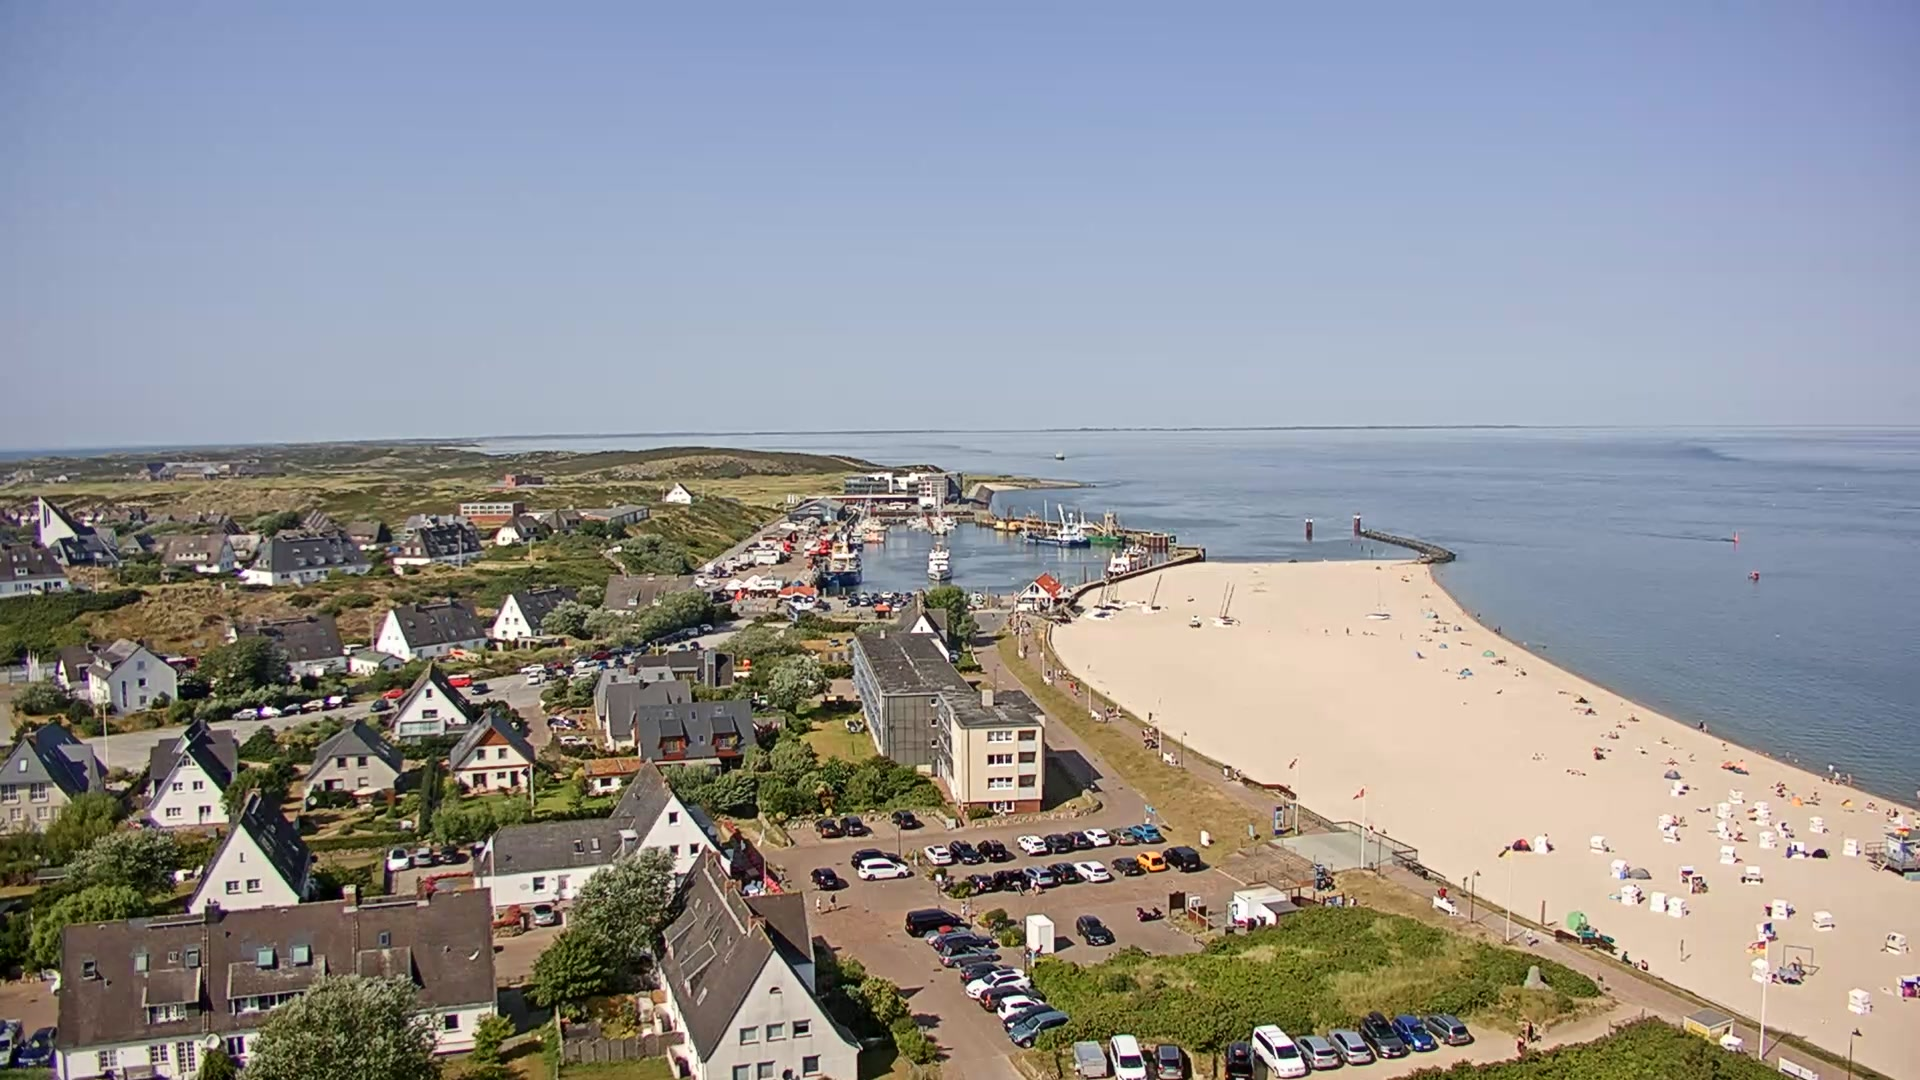human: (1312, 863, 1326, 880), (827, 891, 838, 913), (1619, 949, 1632, 965), (1678, 938, 1686, 960), (1543, 831, 1553, 849), (1524, 926, 1534, 945), (1734, 819, 1743, 839), (815, 895, 823, 916), (1578, 911, 1587, 931), (1527, 1020, 1535, 1041), (1736, 759, 1747, 772), (1521, 1022, 1527, 1043), (1366, 825, 1374, 843), (1517, 1032, 1525, 1050), (1104, 702, 1111, 718), (1827, 761, 1834, 776), (1697, 720, 1706, 732), (1834, 768, 1841, 783), (1074, 680, 1080, 695), (1116, 703, 1122, 718), (1141, 726, 1148, 738), (1439, 887, 1447, 900), (1349, 896, 1357, 907), (1719, 741, 1728, 753), (1109, 705, 1116, 718), (1147, 725, 1153, 739), (1894, 806, 1900, 816), (1886, 807, 1892, 815)
land: (1250, 1022, 1305, 1077), (1007, 1011, 1073, 1049), (964, 967, 1032, 1001), (1357, 1010, 1405, 1059), (1108, 1033, 1148, 1079), (904, 907, 965, 937), (978, 984, 1045, 1012), (17, 1024, 58, 1068), (1326, 1026, 1371, 1065), (1391, 1012, 1435, 1051), (1292, 1032, 1339, 1069), (1419, 1012, 1470, 1045), (1002, 1004, 1056, 1031), (938, 941, 993, 967), (857, 857, 910, 882), (1, 1017, 26, 1070), (996, 995, 1046, 1022), (1076, 914, 1115, 947), (1222, 1041, 1257, 1078), (920, 923, 974, 945), (932, 931, 993, 951), (1153, 1042, 1184, 1079), (1160, 845, 1201, 873), (850, 849, 901, 869), (959, 960, 1002, 982), (948, 838, 983, 865), (1073, 859, 1109, 883), (1044, 860, 1077, 884), (1020, 865, 1054, 889), (991, 869, 1025, 893), (922, 843, 953, 867), (976, 840, 1007, 864), (1125, 823, 1161, 844), (1041, 832, 1072, 856), (808, 867, 838, 891), (1016, 834, 1047, 856), (1133, 852, 1166, 873), (962, 871, 994, 893), (386, 845, 410, 871), (529, 903, 557, 926), (1106, 826, 1135, 846), (1111, 857, 1142, 877), (838, 815, 865, 836), (1081, 827, 1110, 847), (813, 818, 839, 839), (891, 809, 917, 830), (1135, 904, 1163, 923), (318, 692, 350, 708), (546, 713, 579, 728), (412, 846, 434, 868), (438, 845, 461, 865), (1065, 829, 1087, 851), (559, 733, 591, 746), (676, 625, 704, 638), (231, 707, 259, 720), (446, 673, 471, 687), (468, 840, 486, 859), (574, 655, 599, 668), (258, 705, 284, 717), (302, 698, 327, 709), (369, 699, 390, 712), (382, 686, 405, 698), (520, 663, 545, 674), (283, 701, 304, 713), (470, 680, 486, 695), (611, 644, 635, 653), (661, 631, 689, 640), (526, 670, 540, 684), (543, 667, 558, 680), (571, 670, 594, 678), (607, 647, 627, 656), (699, 623, 713, 633), (593, 650, 606, 659), (614, 657, 625, 667), (816, 599, 825, 609), (677, 642, 687, 651), (806, 594, 815, 602), (891, 602, 901, 612), (599, 660, 608, 669), (564, 665, 574, 674), (859, 597, 869, 605), (881, 590, 891, 598), (690, 641, 700, 649), (846, 598, 855, 606), (860, 590, 869, 598), (882, 598, 891, 605), (904, 591, 912, 599), (837, 594, 846, 600), (850, 591, 859, 598), (871, 591, 879, 598), (891, 591, 900, 598), (873, 598, 881, 604)
sea: (1016, 496, 1091, 548), (849, 485, 888, 543), (1103, 538, 1152, 579), (824, 533, 862, 586), (1080, 506, 1129, 540), (1208, 582, 1242, 626), (926, 539, 953, 581), (1087, 581, 1115, 620), (1141, 574, 1169, 613), (929, 482, 948, 537), (1093, 573, 1121, 612), (991, 516, 1024, 531), (1720, 530, 1738, 542), (1053, 447, 1065, 460), (1747, 568, 1761, 580)
